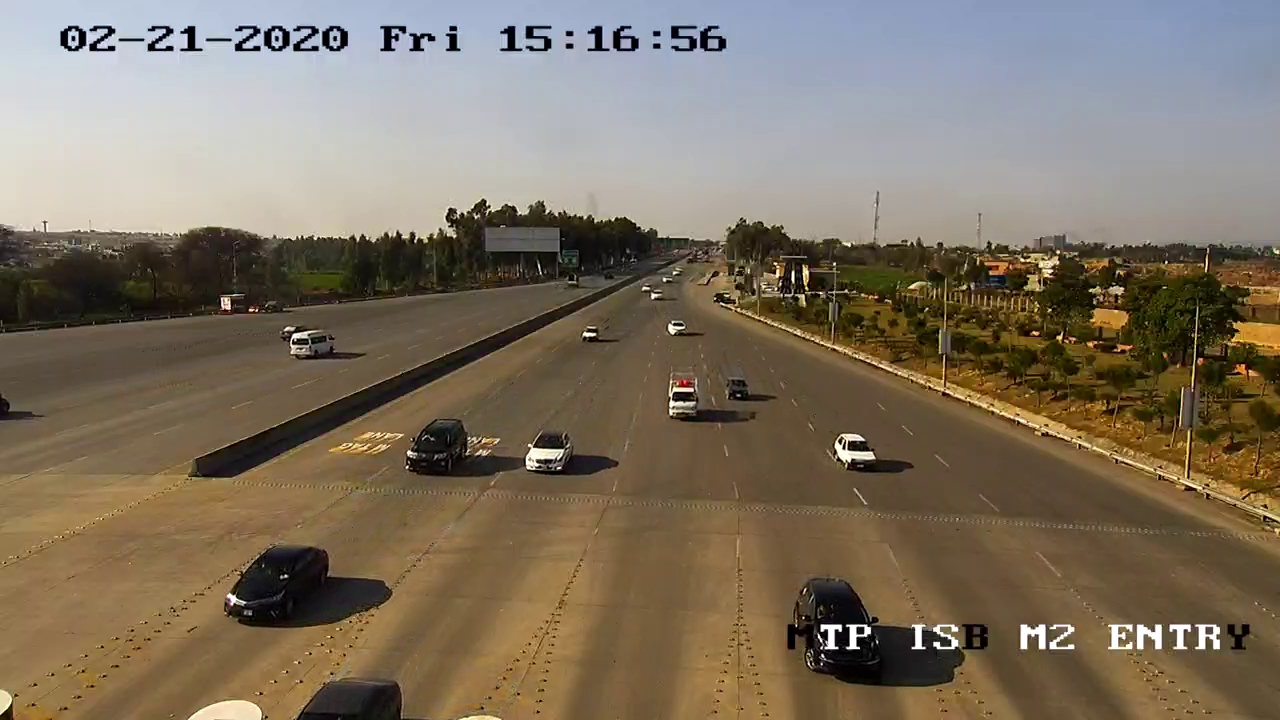f1: (219, 534, 341, 632), (396, 411, 478, 486), (522, 423, 580, 478), (827, 428, 887, 478)
